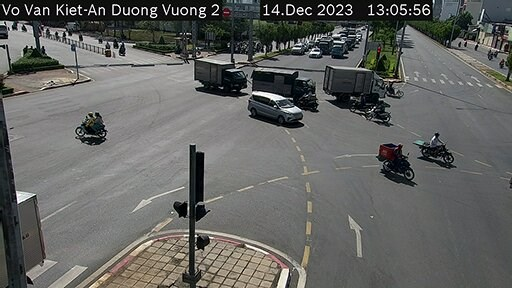car: (247, 89, 298, 133), (290, 40, 308, 53), (309, 47, 323, 58)
motorbike: (374, 143, 418, 186), (417, 130, 453, 172), (70, 109, 103, 148)
truck: (251, 64, 312, 102), (330, 66, 392, 101), (197, 55, 251, 93)
